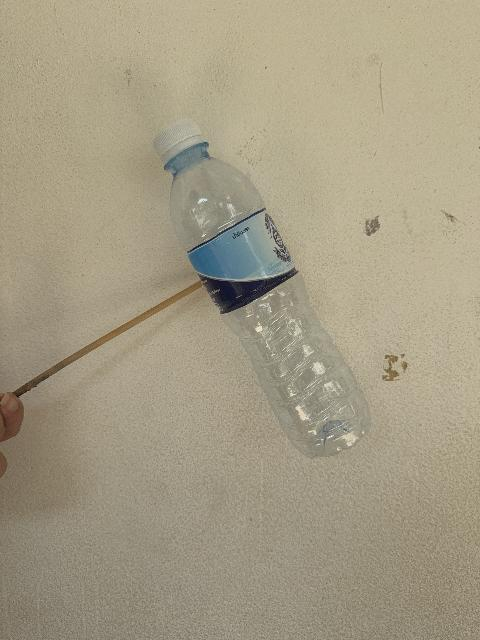bottle: (154, 119, 370, 457)
